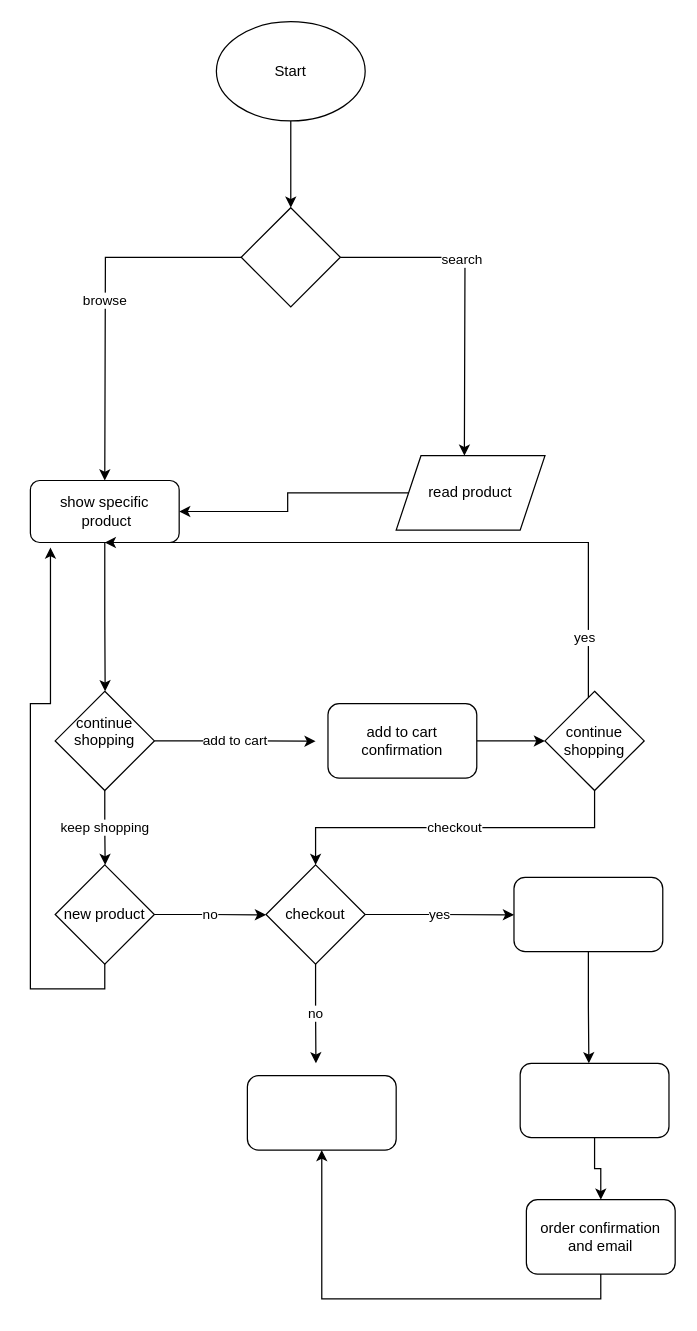
This 697x1331 diagram has some shape labels left out. Here are the shapes that lost their labels. From the top down, the centre of each, then its label:
At (290,256): "Search or Browse".
At (588,914): "view cart".
At (321,1112): "leave website".
At (594,1100): "view payment".
